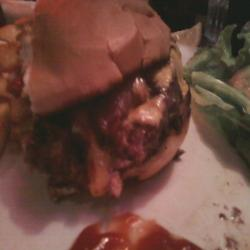burger: (15, 2, 198, 207)
salad: (193, 13, 250, 163)
